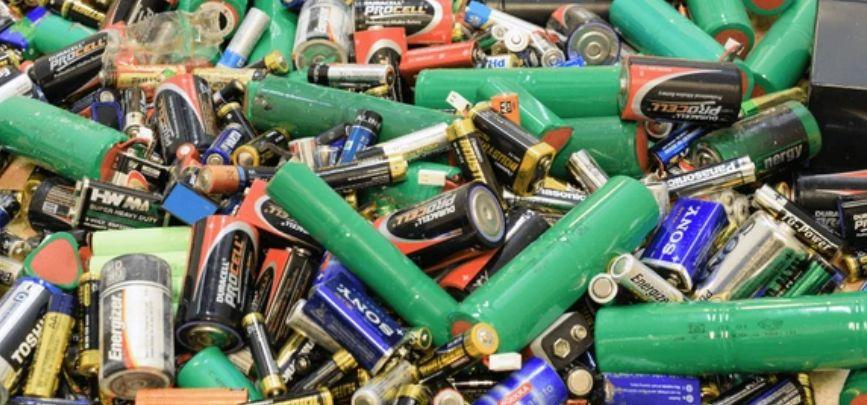battery: (447, 173, 663, 361), (267, 154, 461, 343), (592, 288, 867, 370), (247, 73, 436, 152), (170, 216, 261, 351), (0, 96, 127, 188), (100, 252, 178, 395), (691, 99, 825, 181), (412, 67, 636, 116), (617, 52, 743, 124), (304, 270, 398, 363), (642, 194, 730, 292), (34, 20, 138, 98), (465, 104, 553, 194), (20, 288, 82, 399), (750, 0, 822, 95), (66, 174, 163, 233), (154, 73, 215, 156), (549, 2, 623, 68), (661, 154, 761, 201), (292, 0, 354, 69), (610, 252, 684, 306), (533, 308, 594, 366), (334, 106, 385, 162), (199, 164, 278, 188), (587, 270, 617, 301)
